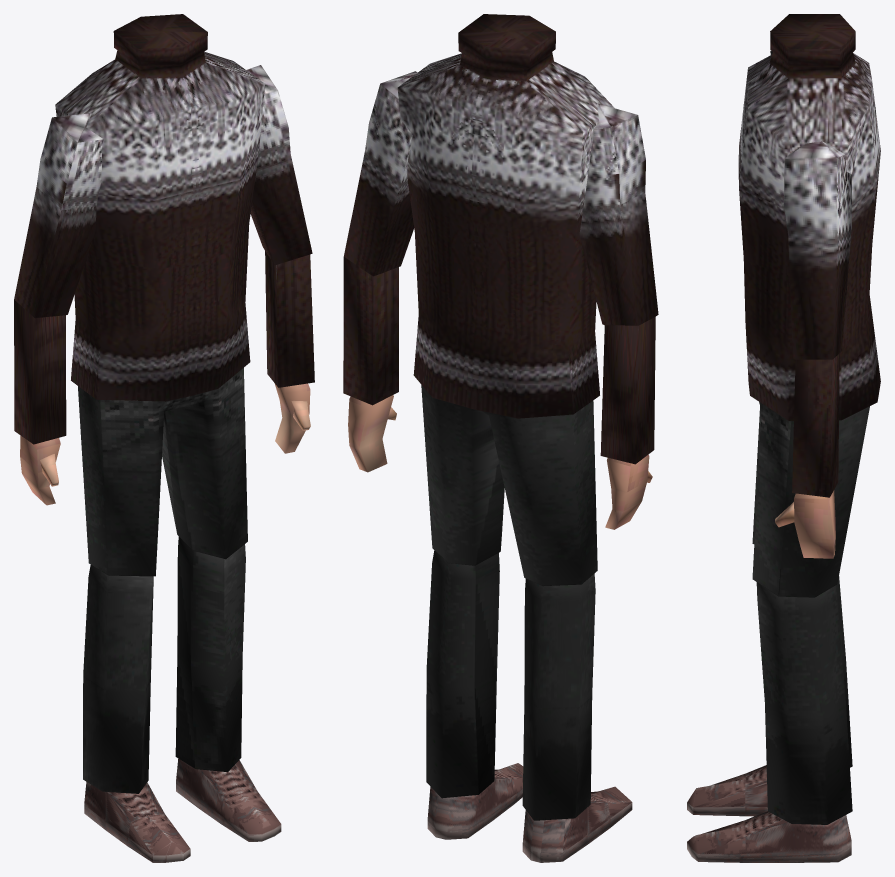
The model's file is KevinBody.fbx.
The picture shows the model from 3 angles, left to right: view 1: azimuth 30°, elevation 25°; view 2: azimuth 150°, elevation 25°; view 3: azimuth 270°, elevation 25°; orthographic projection. The views are drawn at different scales.
Parts seen in each view (by area): view 1: Kevin; view 2: Kevin; view 3: Kevin.
Part boxes in pixels (x1=…): Kevin: x1=14, y1=14, x2=314, y2=862; Kevin: x1=343, y1=14, x2=658, y2=862; Kevin: x1=687, y1=14, x2=880, y2=862.
Bounding box in the file's own units: 59.09 × 152 × 33.53.
